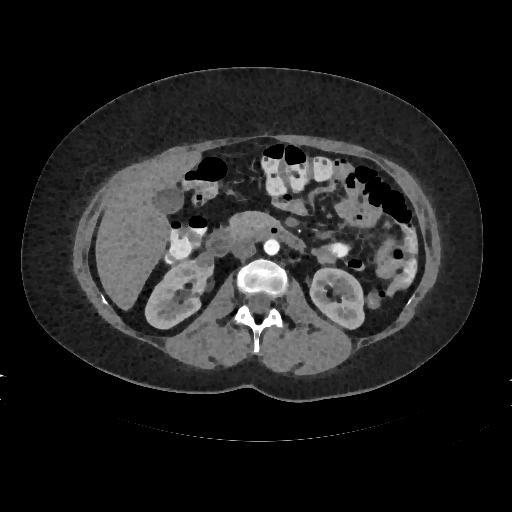Lesion: (194, 248, 216, 270)
